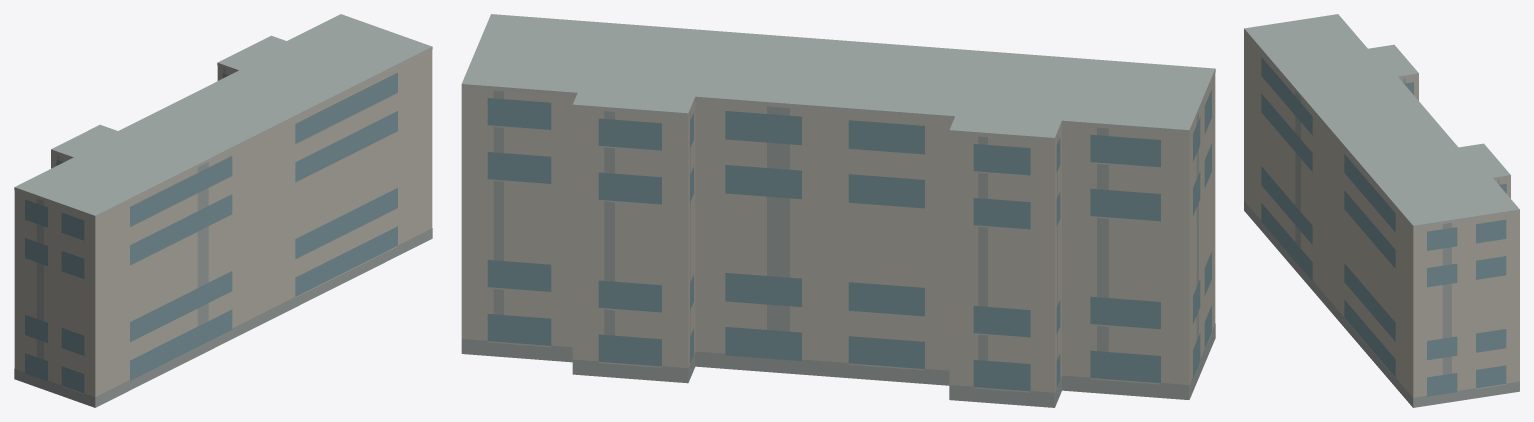
File: residential-3939333a-e188-44c5-9b44-50217baaffb6.glb
The picture shows the model from 3 angles, left to right: view 1: azimuth 30°, elevation 25°; view 2: azimuth 150°, elevation 25°; view 3: azimuth 270°, elevation 25°; orthographic projection. The views are drawn at different scales.
Visible parts, largest first — view 1: residential-3939333a-e188-44c5-9b44-50217baaffb6.tmp; view 2: residential-3939333a-e188-44c5-9b44-50217baaffb6.tmp; view 3: residential-3939333a-e188-44c5-9b44-50217baaffb6.tmp.
Part boxes in pixels (<box>): residential-3939333a-e188-44c5-9b44-50217baaffb6.tmp: <box>14,14,432,407</box>; residential-3939333a-e188-44c5-9b44-50217baaffb6.tmp: <box>461,14,1215,407</box>; residential-3939333a-e188-44c5-9b44-50217baaffb6.tmp: <box>1244,14,1519,407</box>.
Size of the model in its own units: 38.01 by 15.25 by 20.93.
